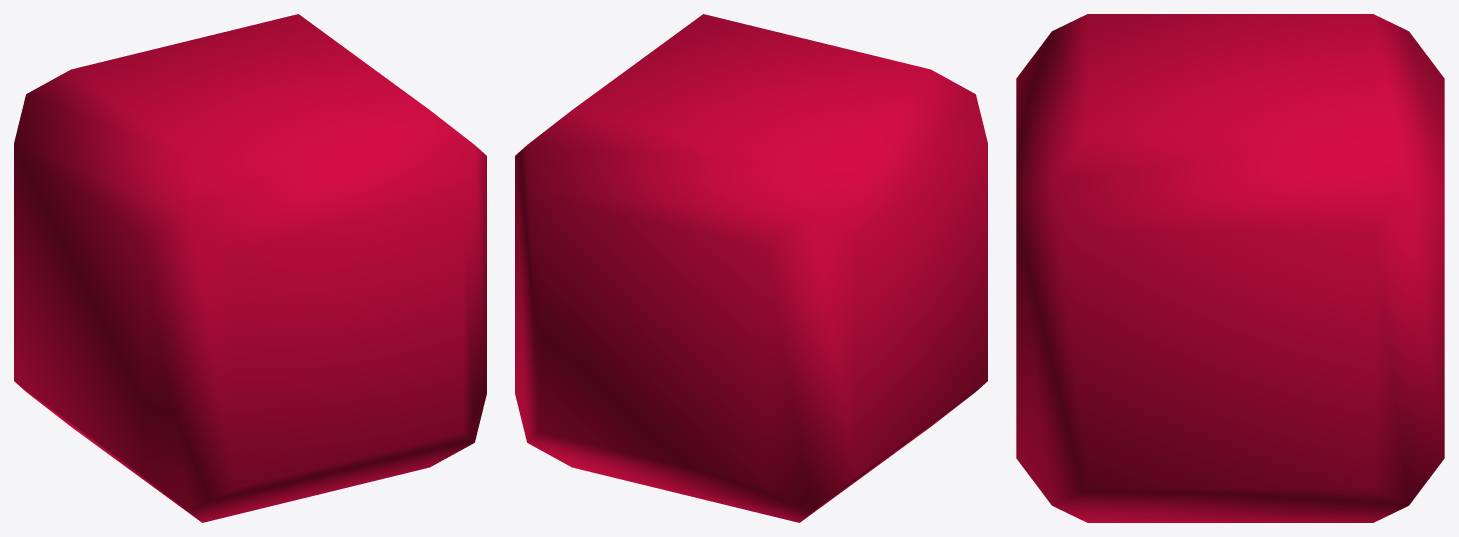
Rendered from dacube.fbx.
The picture shows the model from 3 angles, left to right: view 1: azimuth 30°, elevation 25°; view 2: azimuth 150°, elevation 25°; view 3: azimuth 270°, elevation 25°; orthographic projection. The views are drawn at different scales.
Visible parts, largest first — view 1: Cube; view 2: Cube; view 3: Cube.
Part boxes in pixels (<box>): Cube: <box>14,14,486,522</box>; Cube: <box>515,14,987,522</box>; Cube: <box>1016,14,1444,522</box>.
Bounding box in the file's own units: 2.4 × 2.4 × 2.4.
